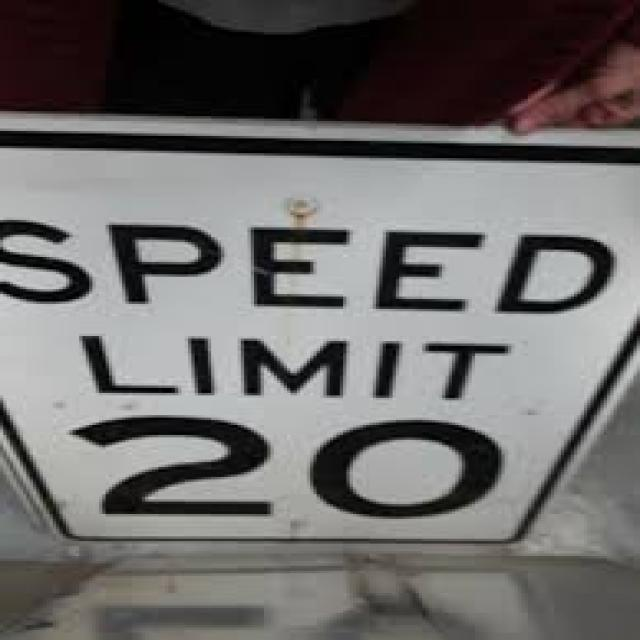speedLimit20: (5, 127, 635, 562)
